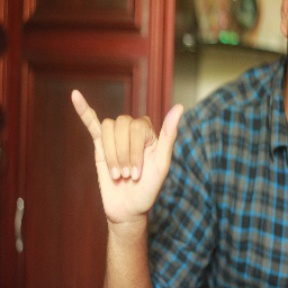J: (68, 87, 192, 217)
